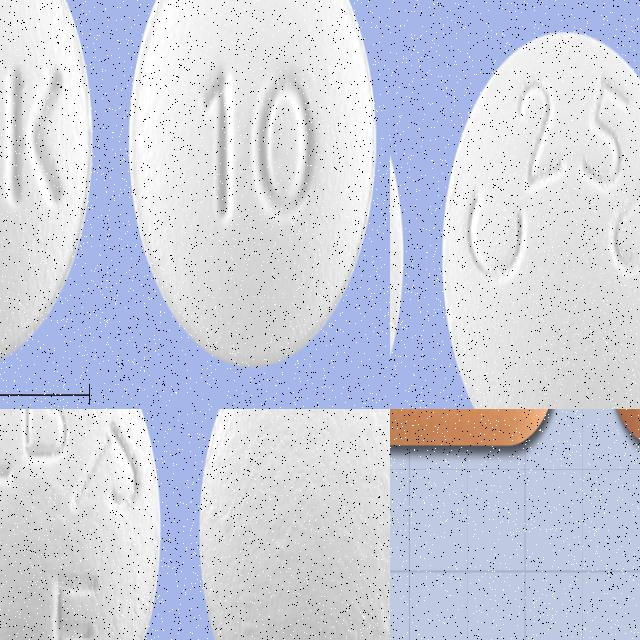Lenomid: (131, 0, 377, 365), (0, 0, 91, 366)
Neobit Tab: (198, 409, 390, 640), (0, 409, 159, 640)
RP Ciprok Tab: (441, 30, 640, 409)
